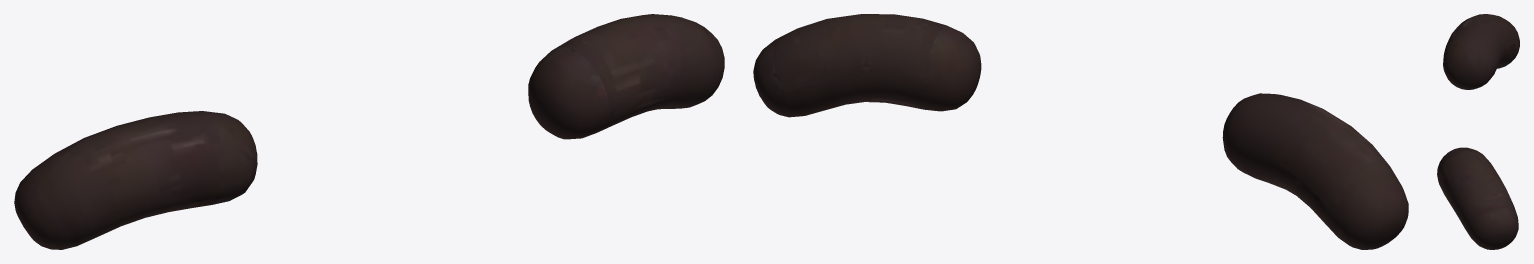
The model's file is eyebrow1.glb.
The picture shows the model from 3 angles, left to right: view 1: azimuth 30°, elevation 25°; view 2: azimuth 150°, elevation 25°; view 3: azimuth 270°, elevation 25°; orthographic projection. The views are drawn at different scales.
Visible parts, largest first — view 1: eyebrows.001; view 2: eyebrows.001; view 3: eyebrows.001.
Boxes of the visible parts, box(x1,y1,x2,y2) form: eyebrows.001: box(14, 14, 724, 249); eyebrows.001: box(753, 14, 1408, 249); eyebrows.001: box(1437, 14, 1519, 249).
Size of the model in its own units: 0.7909 by 0.1367 by 0.1402.
Materials: 1 (1 with a texture image).
